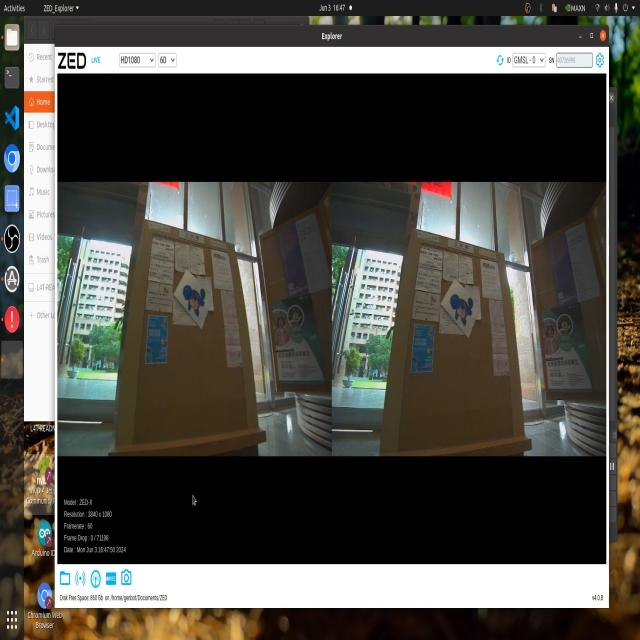blue: (180, 278, 219, 326), (452, 286, 488, 332)
